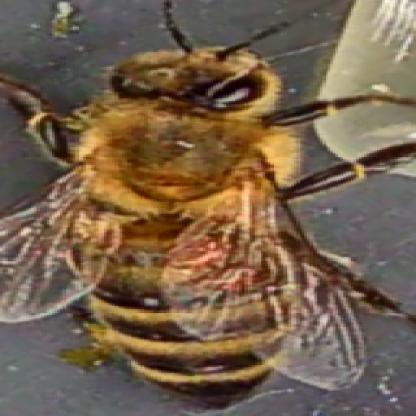bee: (88, 34, 320, 409)
vaoora: (179, 242, 223, 263)
